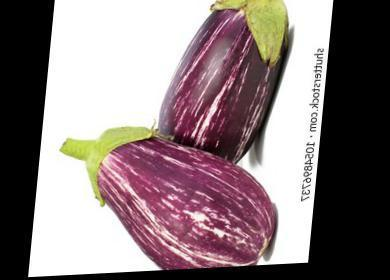eggplant: (65, 120, 294, 276), (148, 0, 306, 169)
